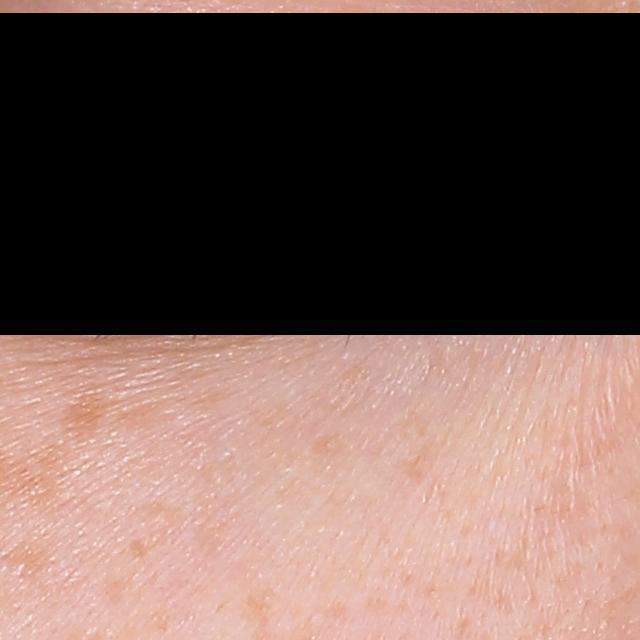melasma: (63, 393, 114, 443), (399, 435, 448, 485), (303, 431, 353, 461), (3, 546, 51, 577), (128, 537, 153, 563)
